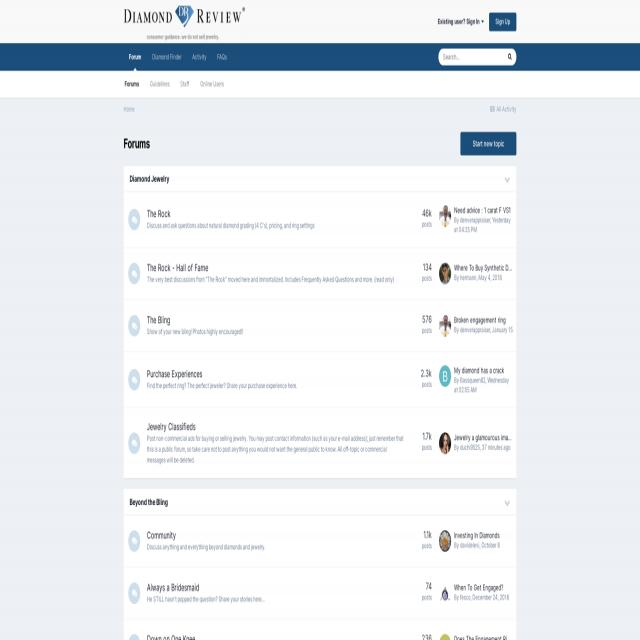button: (124, 0, 246, 43), (461, 131, 516, 155), (147, 43, 187, 71), (195, 70, 229, 98), (145, 70, 175, 98), (187, 43, 212, 71), (120, 70, 144, 98), (124, 43, 146, 71), (212, 43, 233, 71), (175, 70, 195, 98), (489, 12, 517, 30), (439, 205, 451, 227), (439, 315, 451, 337), (439, 365, 451, 387), (439, 432, 451, 454), (439, 530, 451, 552), (439, 582, 451, 604), (439, 263, 451, 284), (504, 49, 516, 66)
field: (438, 49, 504, 66)
